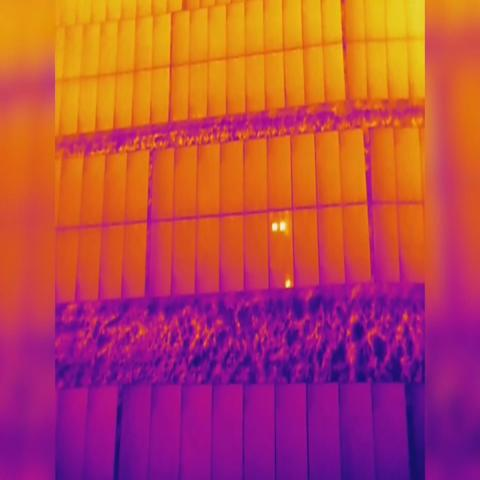fault: (270, 220, 280, 236), (278, 220, 286, 233), (283, 276, 291, 289)
